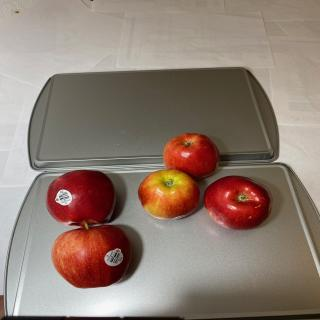Apple: (51, 221, 132, 289), (46, 170, 116, 227), (203, 175, 273, 230), (138, 169, 200, 220), (163, 132, 220, 180)
